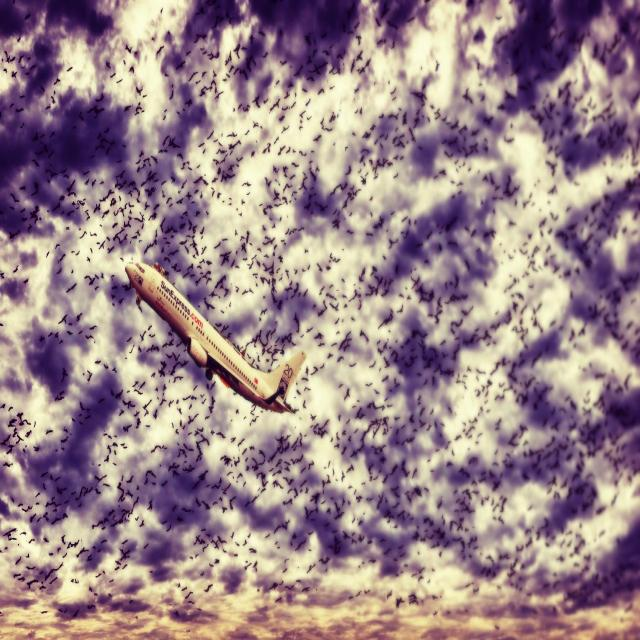airplane: (125, 259, 306, 415)
